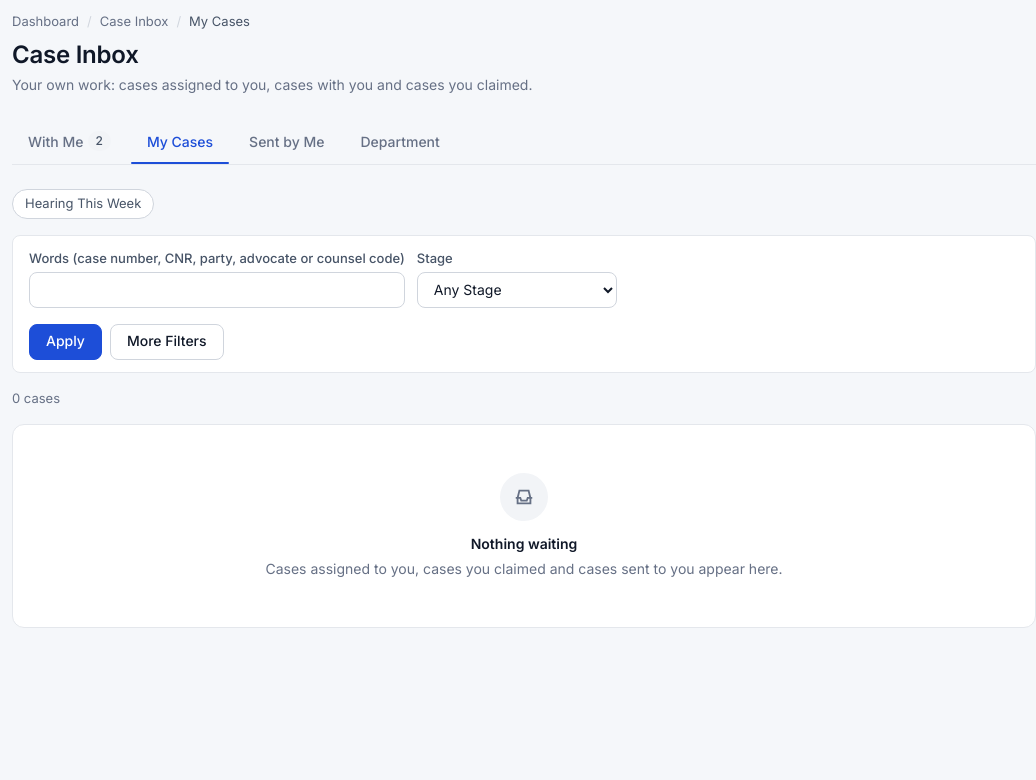
My Cases (decision 4) › Search Words and Stage are on the first row; case type, year and court are under More filters (list-search, decision 17)
Check: the field labelled "Year" is not shown
Check: the field labelled "Words (case number, CNR, party, advocate or counsel code)" is shown, box [29, 272, 405, 308]
Click the button "More Filters".
click(167, 342)  # box [110, 324, 224, 360]
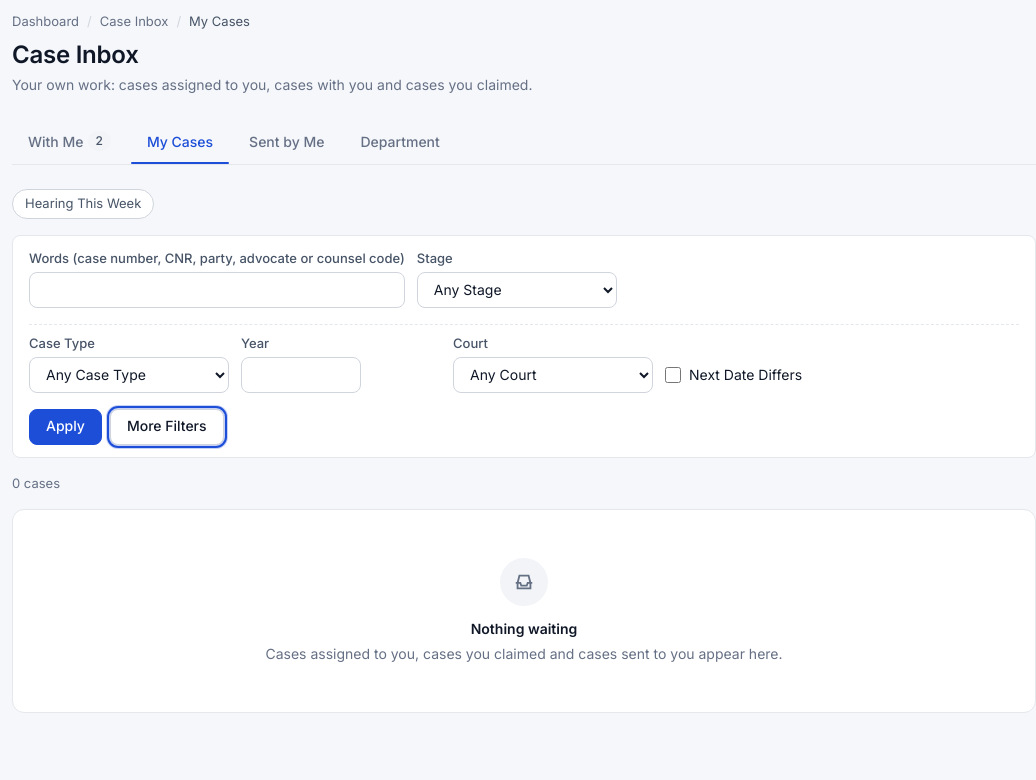
Check: the field labelled "Year" is shown, box [241, 356, 361, 392]
Check: the dropdown labelled "Court" is shown, box [453, 356, 653, 392]
